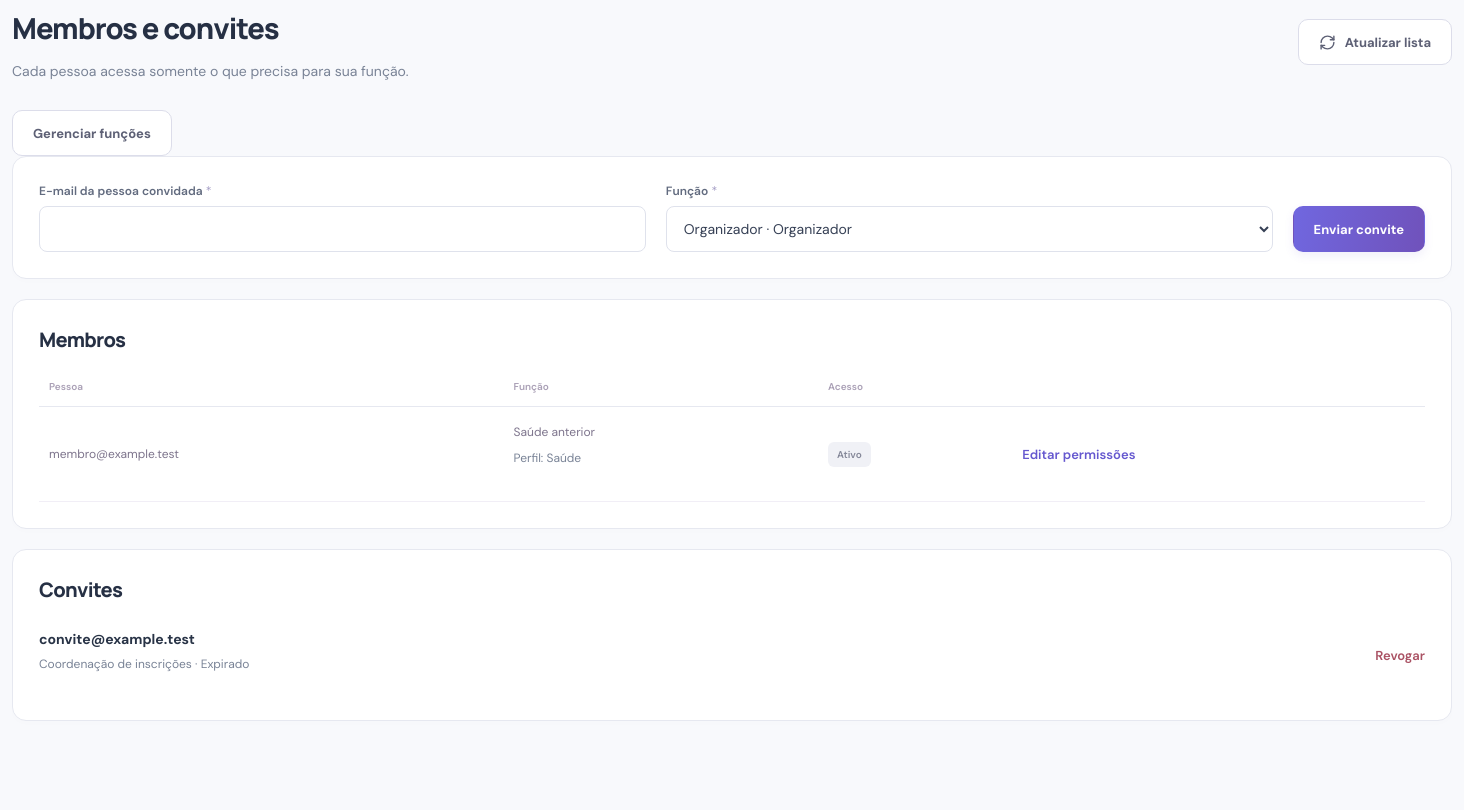
Test: Funções em membros e convites › convite usa ID da função ativa e mostra o nome personalizado
This screenshot has width=1464, height=810.
expect the text "membro@example.test" is shown: met, box [39,406,504,502]
Select "Coordenação de inscrições · Secretaria" in the dropdown labelled "Função *" at (969, 229), box [666,206,1273,252]
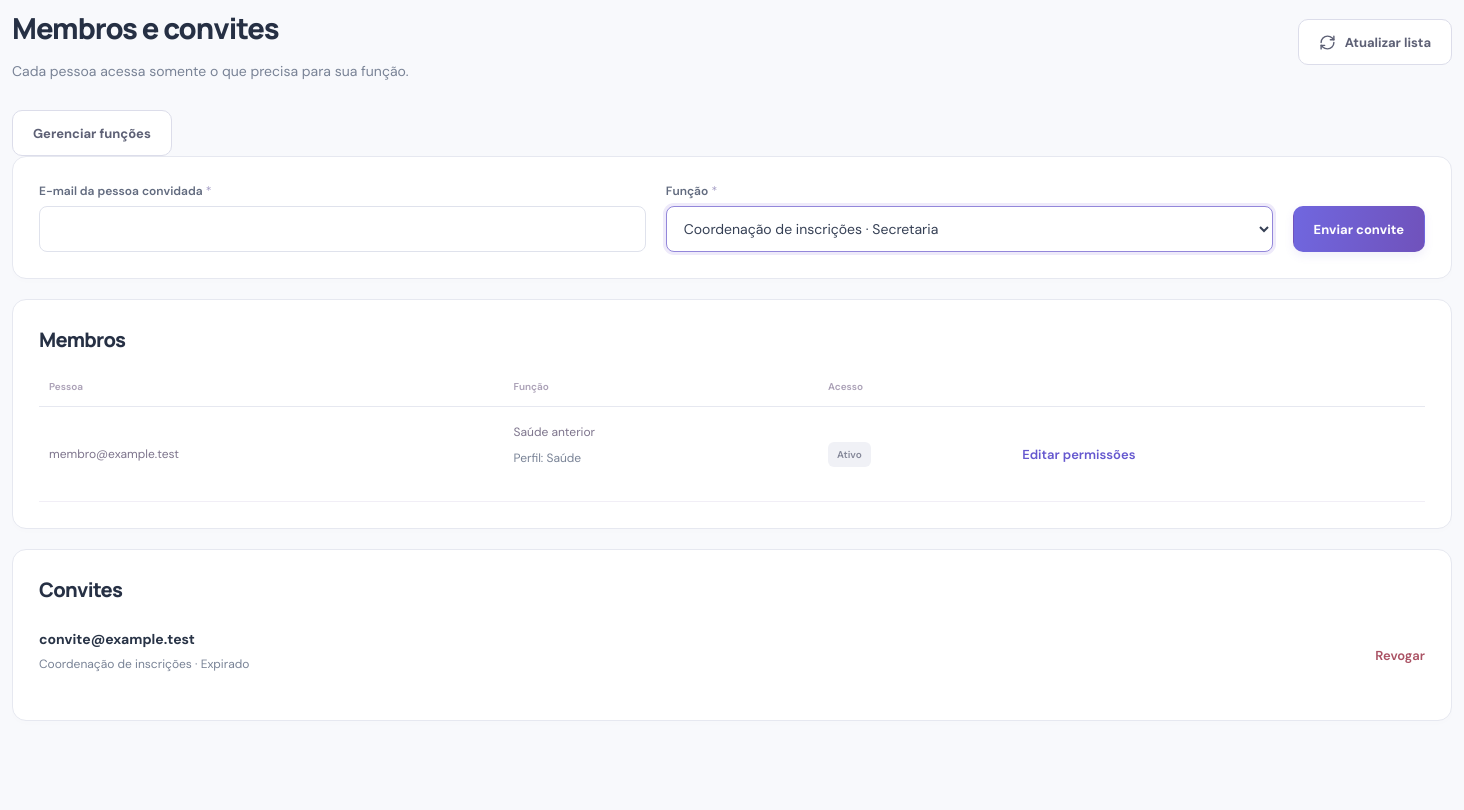
Type "novo@example.test" into the field labelled "E-mail da pessoa convidada *" at (342, 229), box [39,206,646,252]
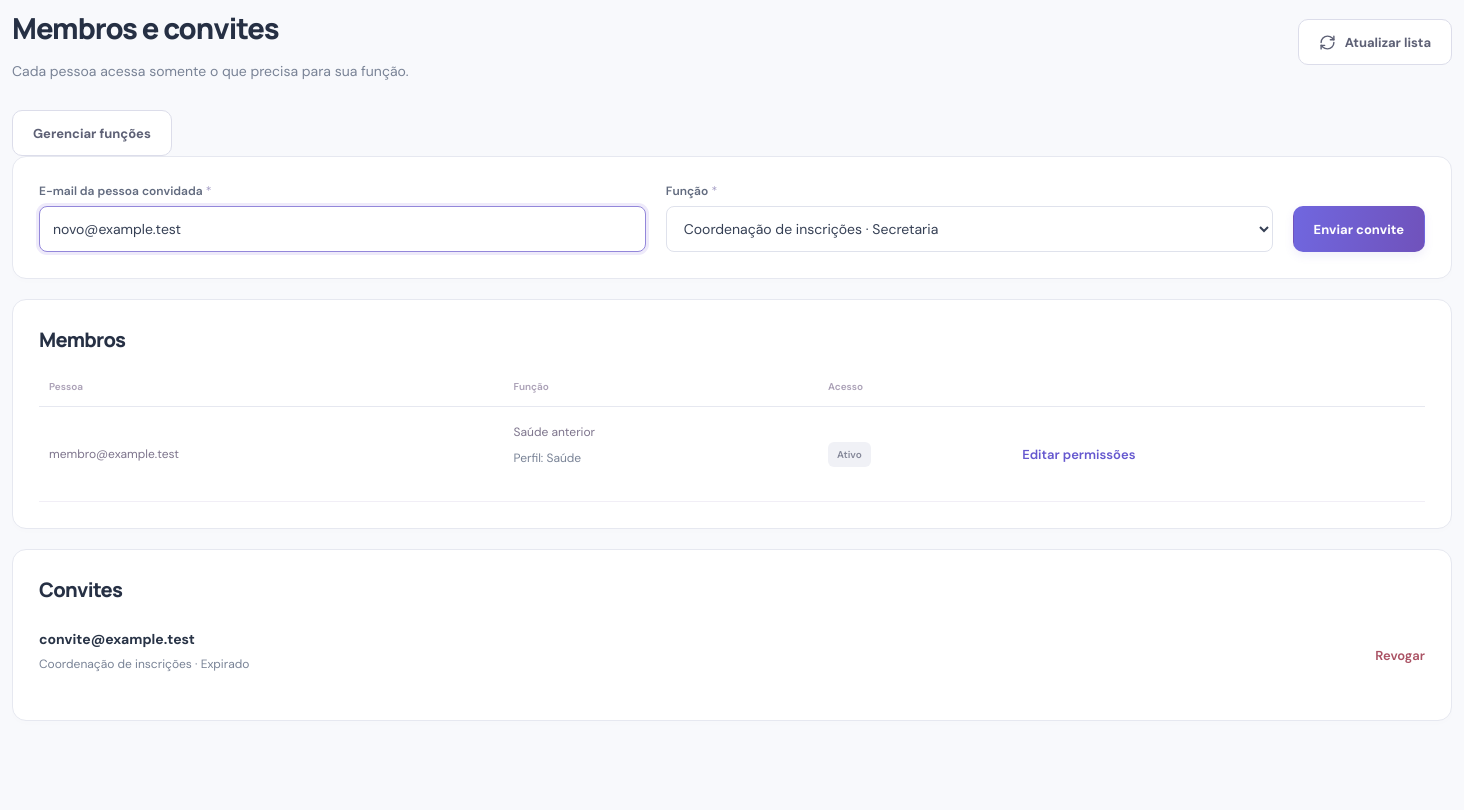
Click the button "Enviar convite" at (1359, 229), box [1293,206,1425,252]
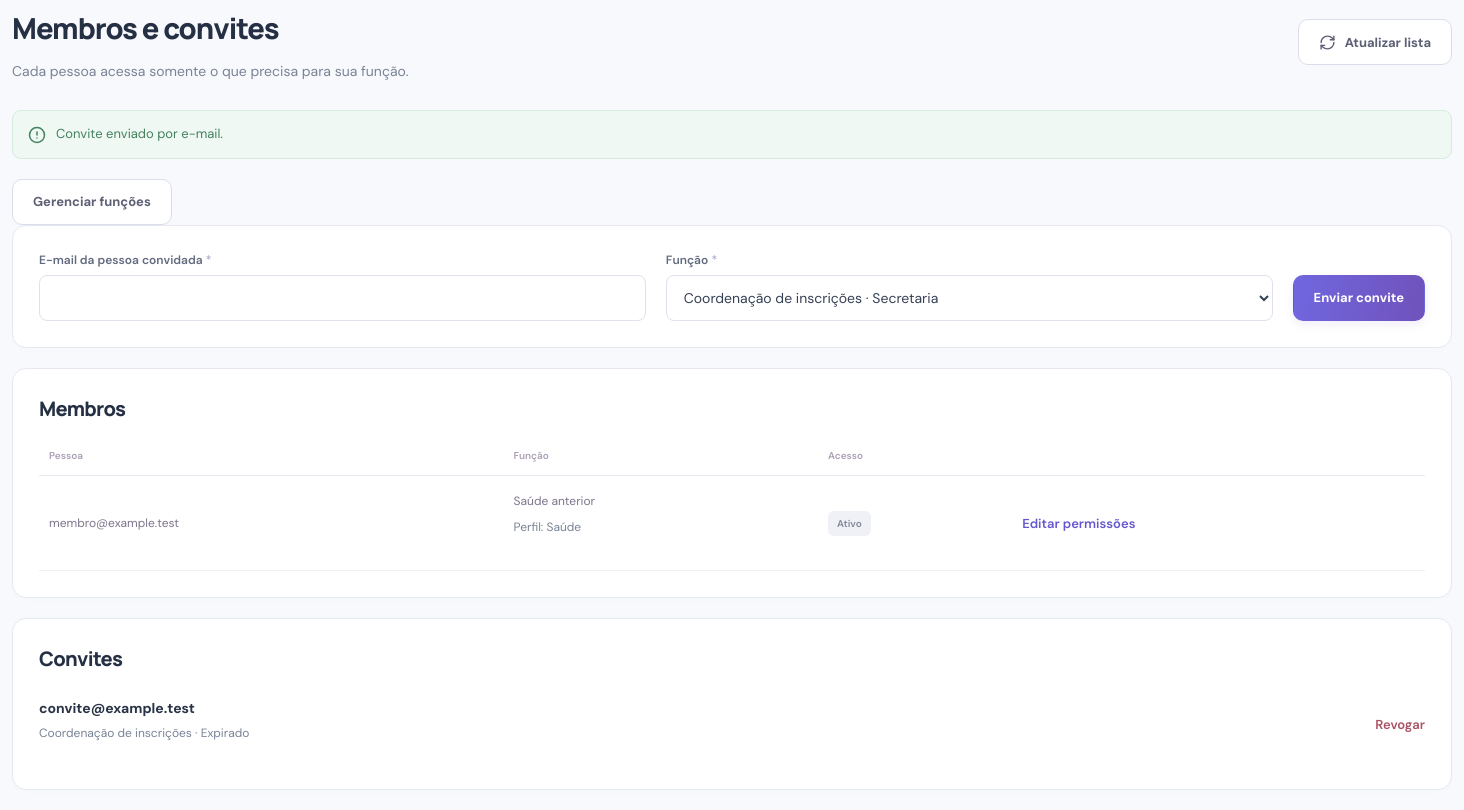
expect the text "Convite enviado por e-mail." is shown: met, box [56,124,223,145]
